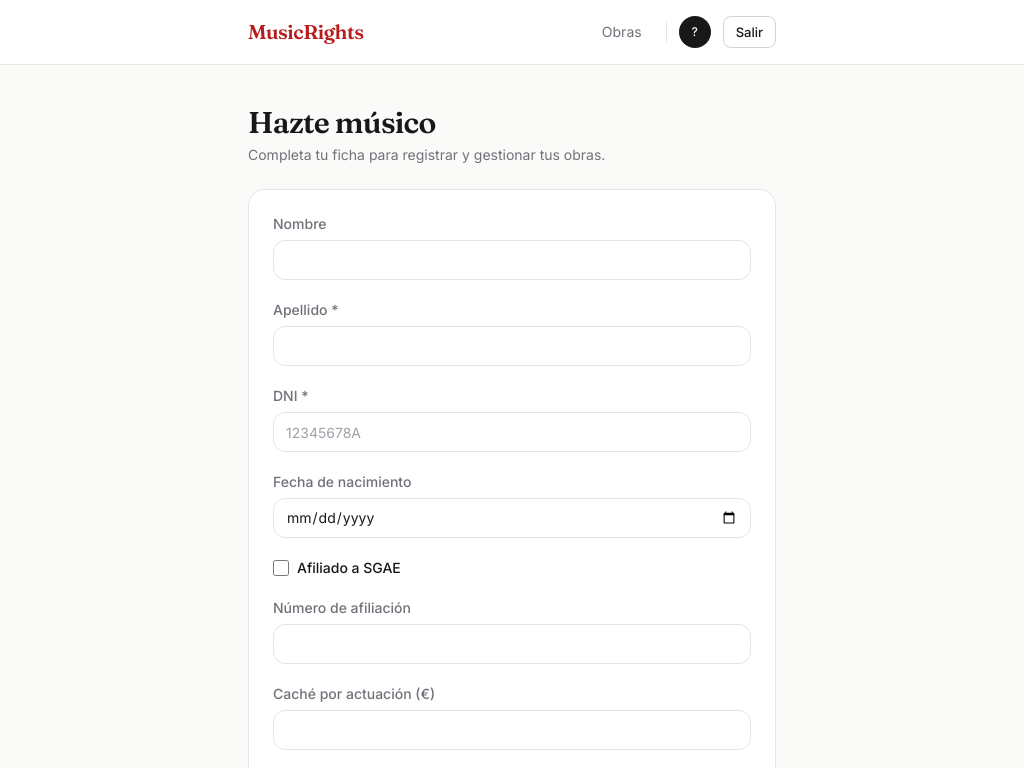
it: MyMusicianPage › muestra error si el DNI no tiene el formato correcto
Type "Pérez" into the field labelled "Apellido *" at (512, 346), box 273,326 -> 751,366
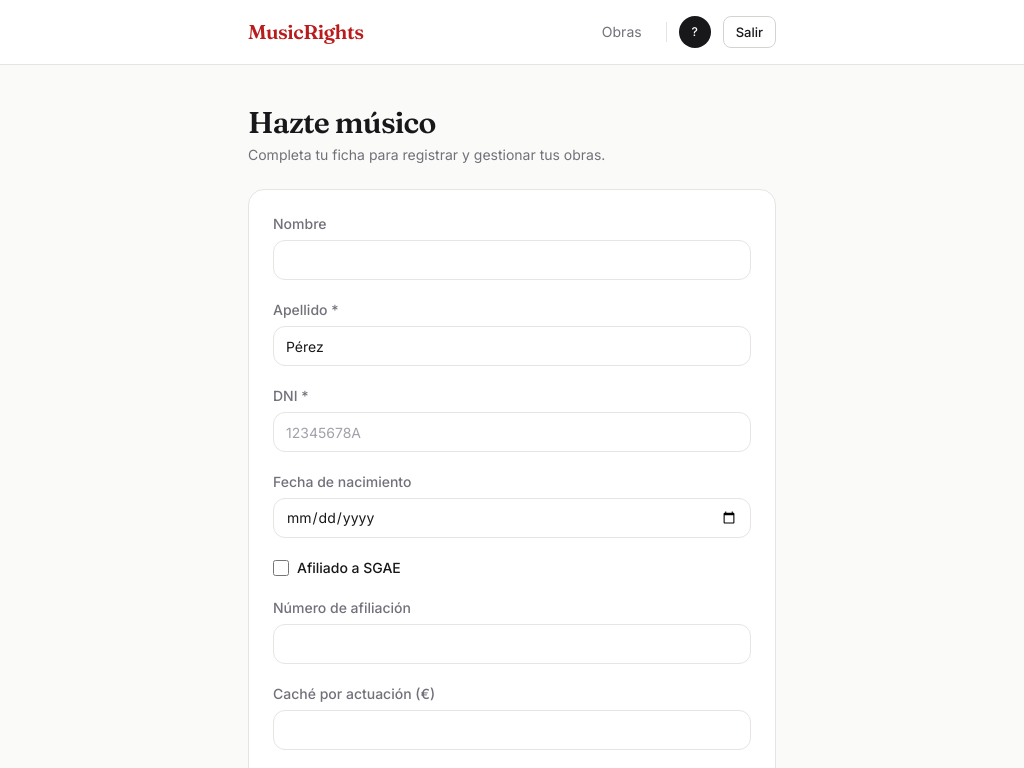
Type "1234" into the field labelled "DNI *" at (512, 432), box 273,412 -> 751,452
(page scrolled)
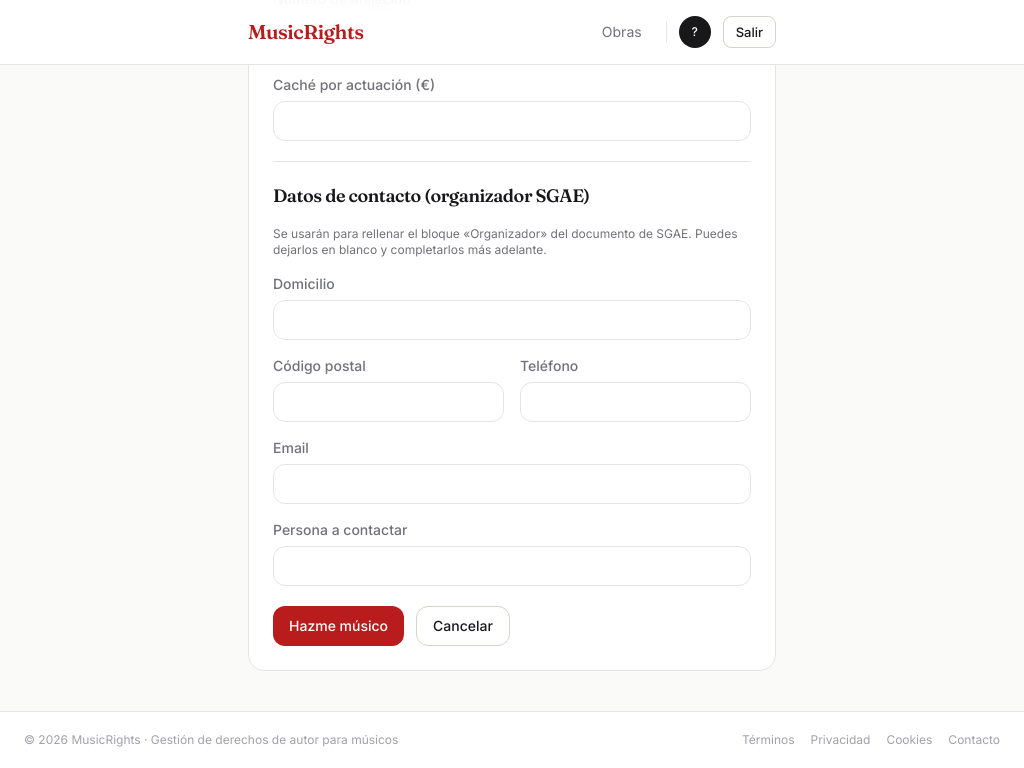
Click the button "Hazme músico" at (339, 626), box 273,606 -> 404,646
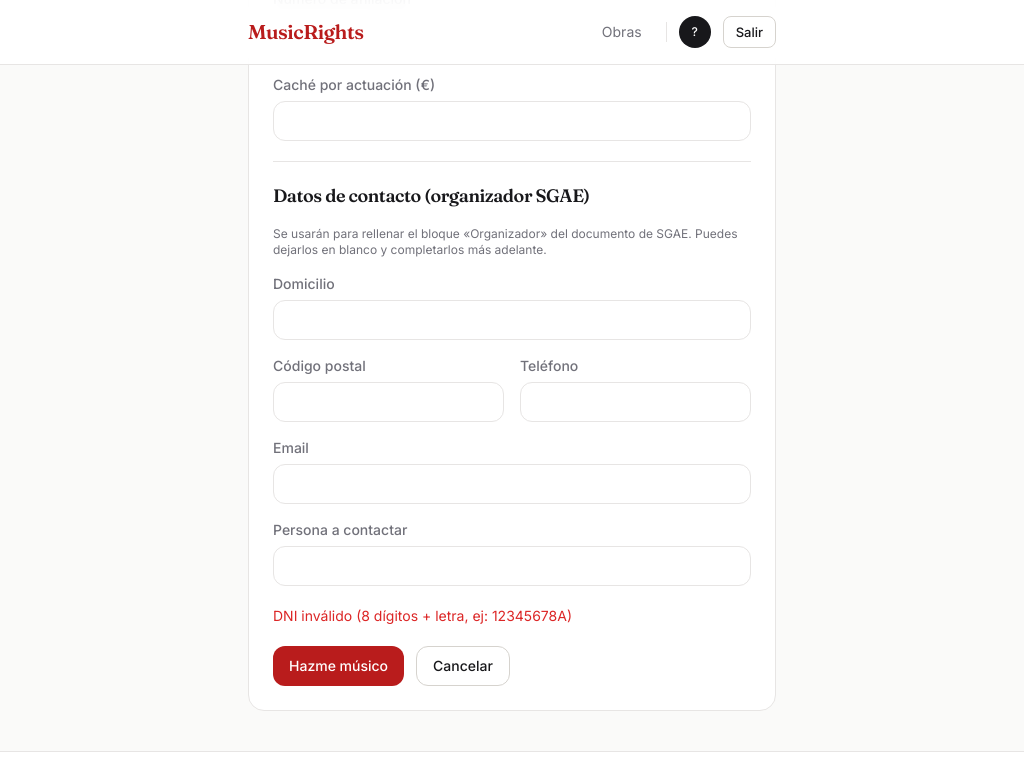
Now the text "DNI inválido (8 dígitos + letra, ej: 12345678A)" is shown, box 273,607 -> 572,624
